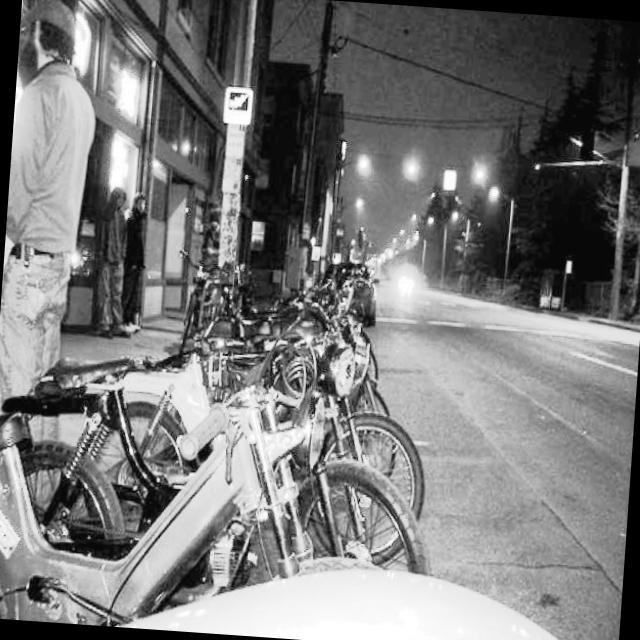Motorcycle: (0, 293, 433, 640), (6, 256, 406, 606)
